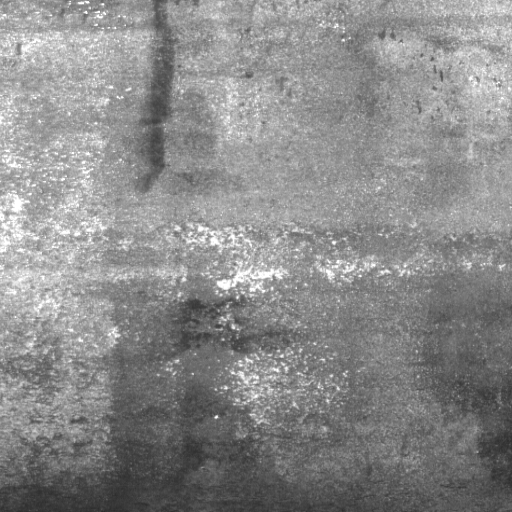aokeng: (134, 1, 178, 197)
